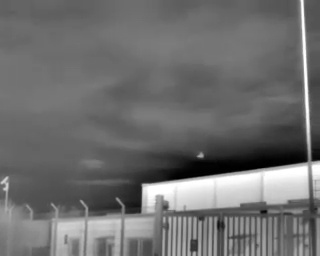HELICOPTER: (194, 148, 210, 163)
